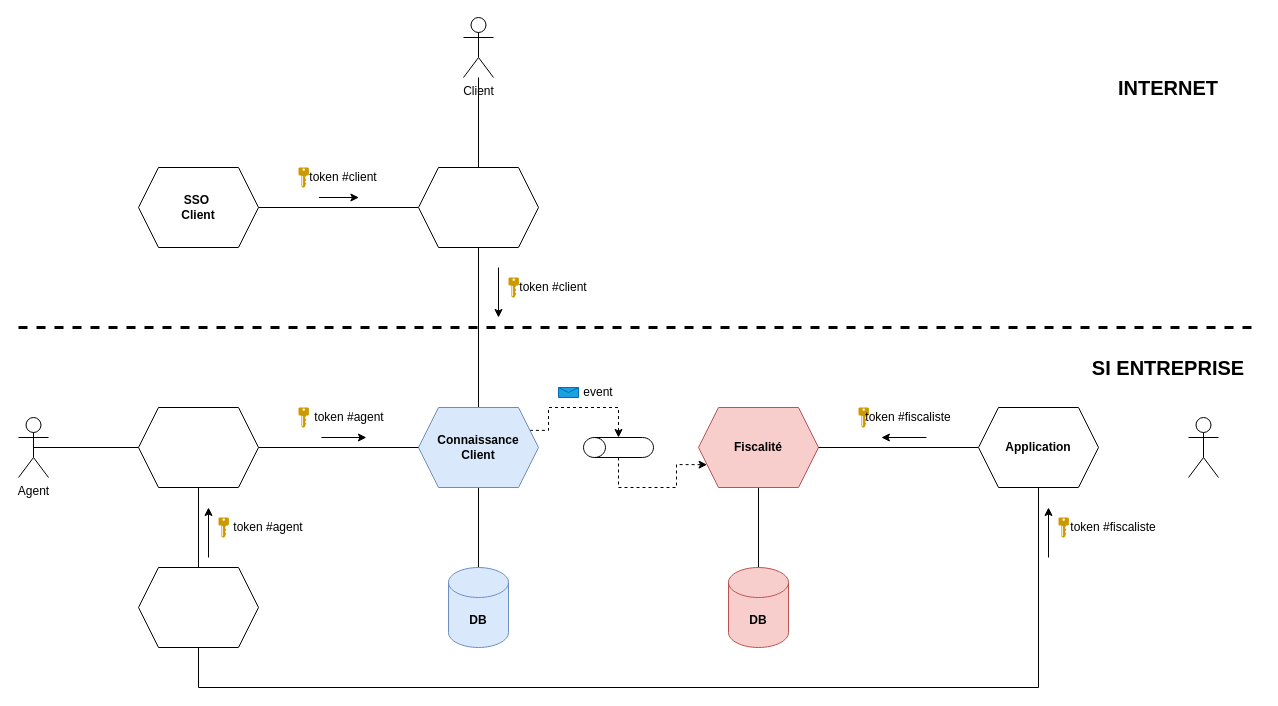
Image size: 1278x706. Some labels were removed from this diagram. Each missing label, with the centre of its shape:
"Accueil Client" belongs at (x=198, y=447).
"Espace Client" belongs at (x=478, y=207).
"Fiscaliste" belongs at (x=1203, y=447).
"SSO Agent" belongs at (x=198, y=607).
